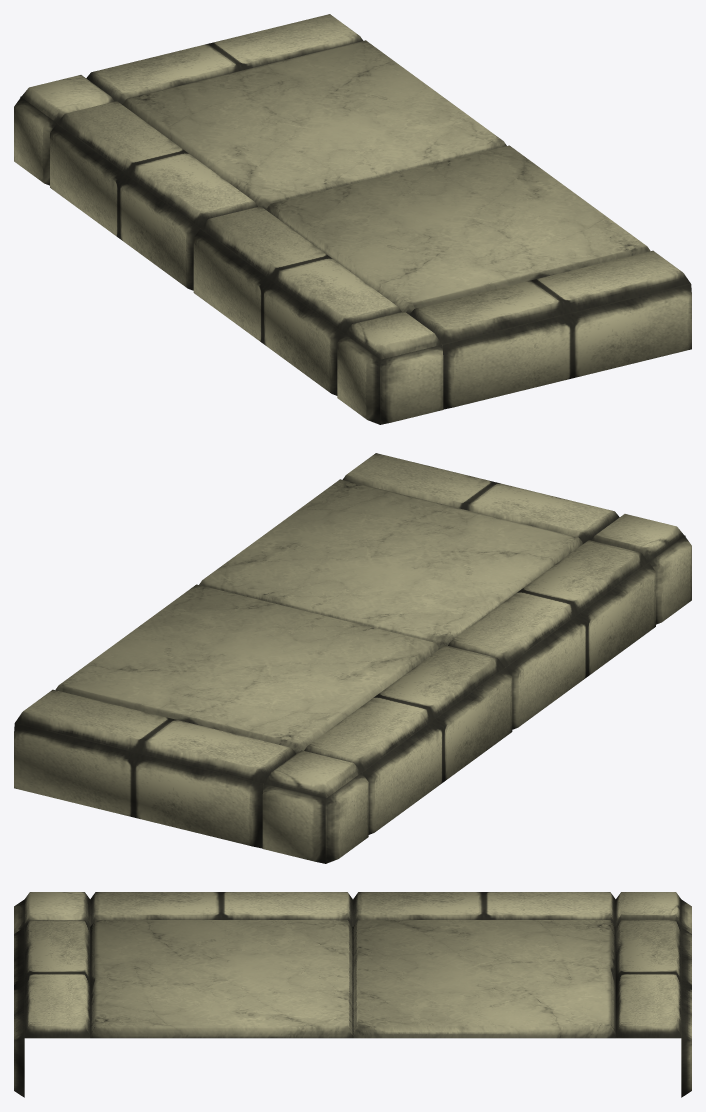
The model's file is RisenPlatform.FBX.
3 views of the same model, one above another, from view 1: azimuth 30°, elevation 25°; view 2: azimuth 150°, elevation 25°; view 3: azimuth 270°, elevation 25° (orthographic). The views are drawn at different scales.
Parts seen in each view (by area): view 1: Object050; view 2: Object050; view 3: Object050.
Part boxes in pixels (bbox=[...]): Object050: bbox=[14, 14, 691, 424]; Object050: bbox=[14, 453, 691, 863]; Object050: bbox=[14, 892, 691, 1097].
Size of the model in its own units: 32.25 by 7.25 by 64.5.
1 material, 1 textured.
